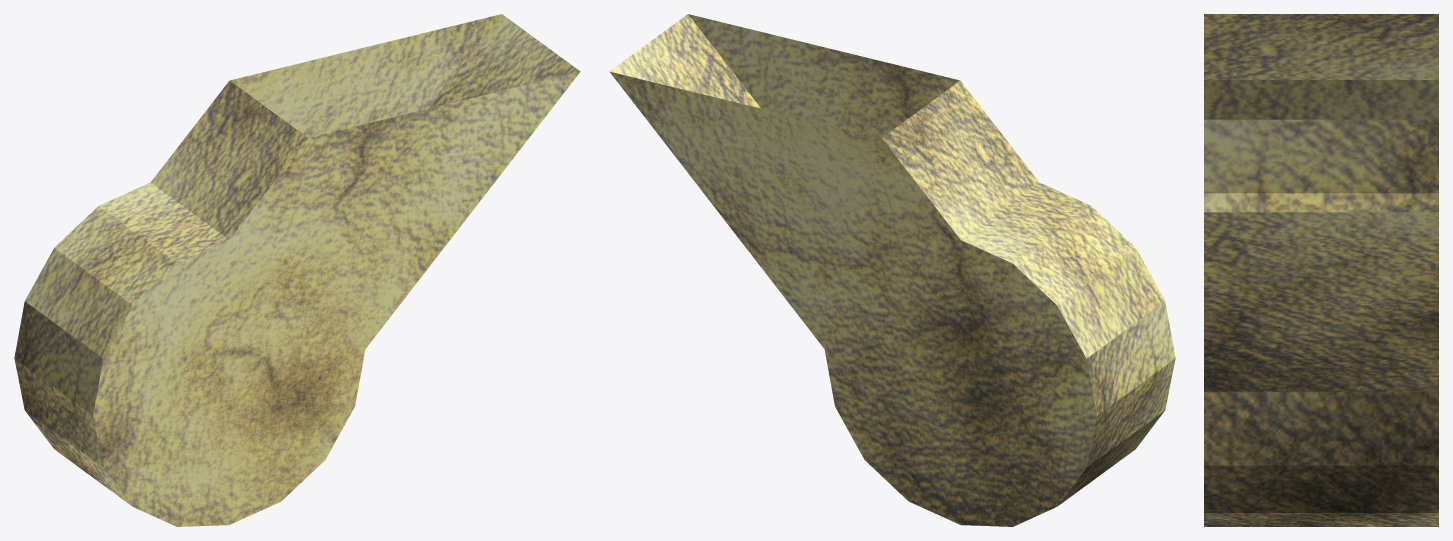
The model's file is neck.dae.
3 views of the same model, side by side, from view 1: azimuth 30°, elevation 25°; view 2: azimuth 150°, elevation 25°; view 3: azimuth 270°, elevation 25° (orthographic). The views are drawn at different scales.
Visible parts, largest first — view 1: Body_Neck; view 2: Body_Neck; view 3: Body_Neck.
Part boxes in pixels (x1,y1,x2,y2): Body_Neck: (14, 14, 580, 526); Body_Neck: (609, 14, 1175, 526); Body_Neck: (1204, 14, 1438, 526).
Size of the model in its own units: 0.5728 by 0.16 by 0.4128.
Materials: 1 (1 with a texture image).
